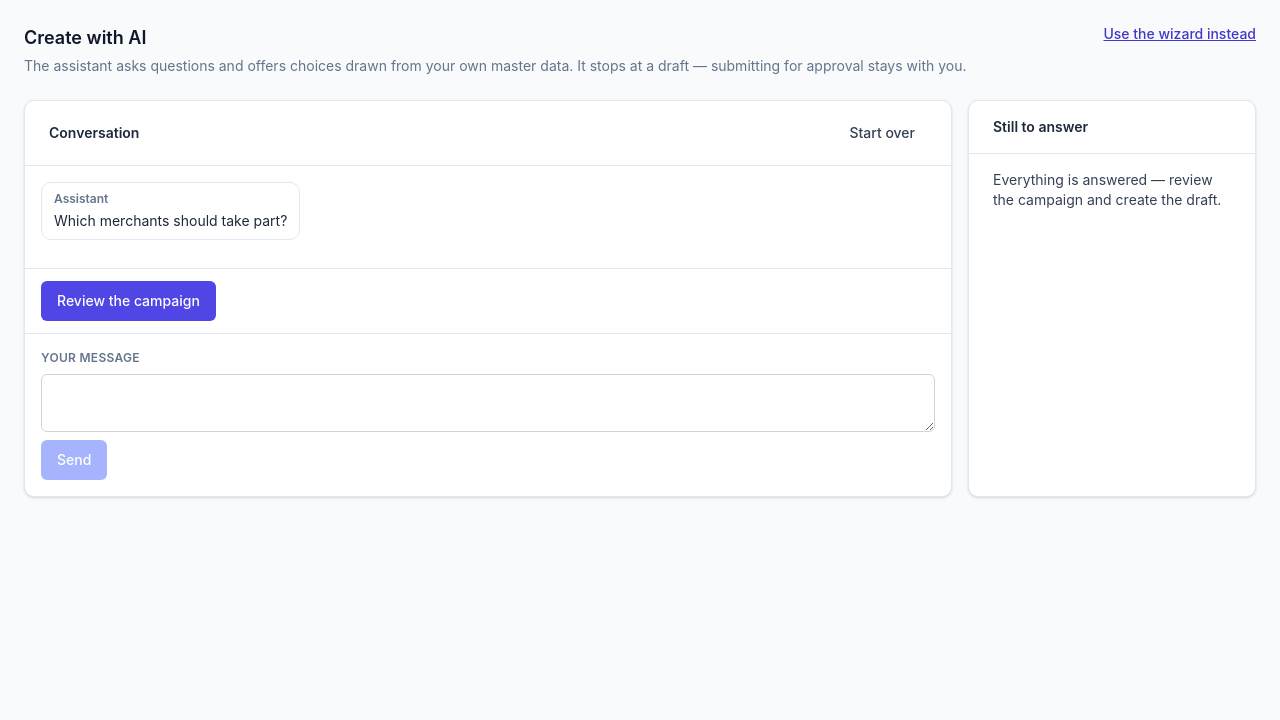
it: TC-9 — "Change something" keeps every answer › returns to the conversation with the composer and the progress list intact
Click the button "Review the campaign".
click(128, 301)  # box [41,281,216,321]
(page scrolled)
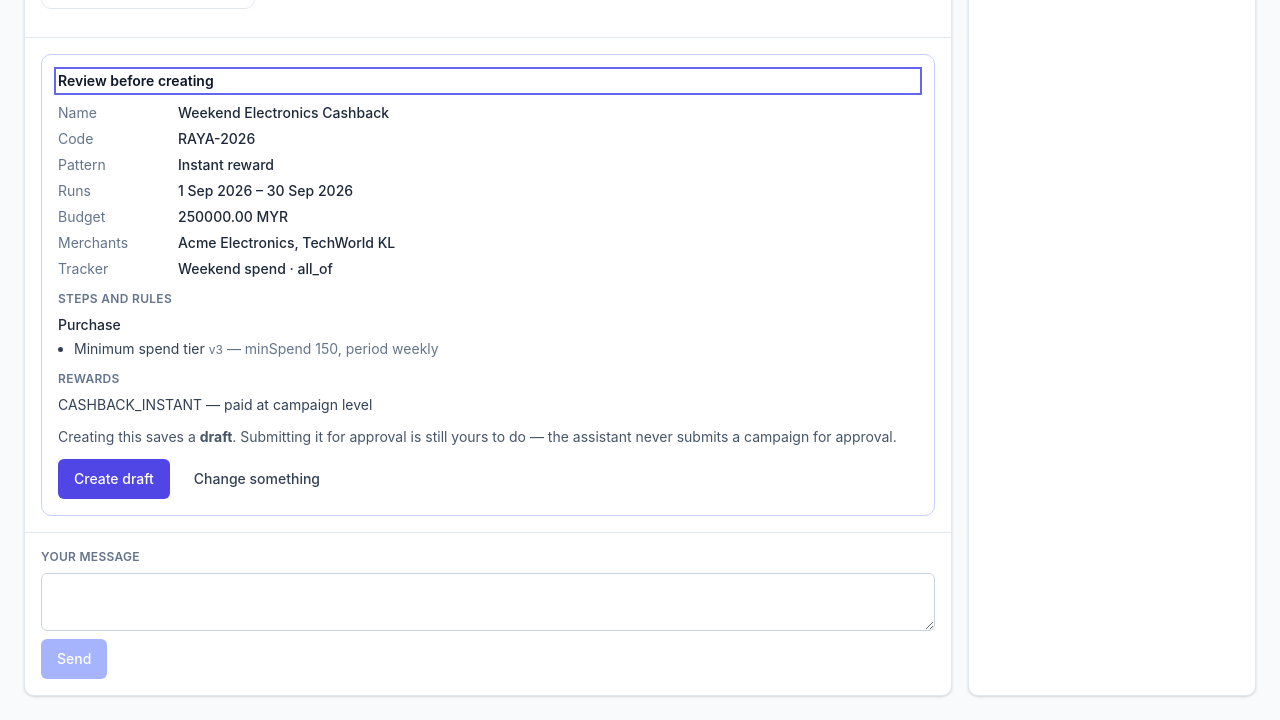
Click the button "Change something".
click(257, 479)  # box [178,459,336,499]
(page scrolled)
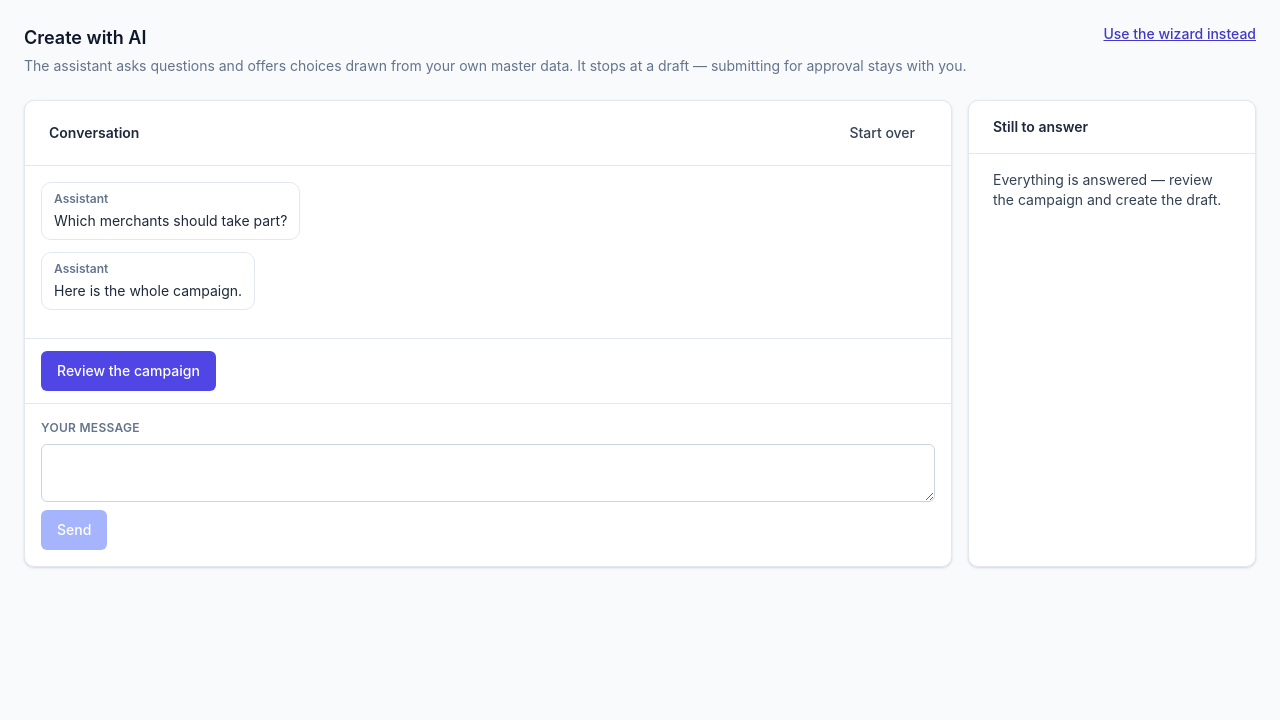
Expected: the text box labelled "Your message" is enabled, [41,444,935,502]
Expected: the heading "Review before creating" is gone
Expected: the button "Review the campaign" is shown, [41,351,216,391]
